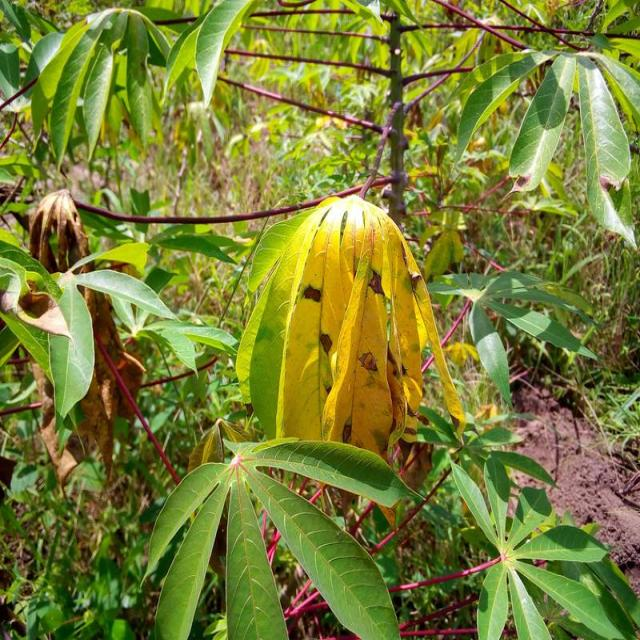cassava leaf: (234, 192, 465, 507), (141, 419, 416, 638)
